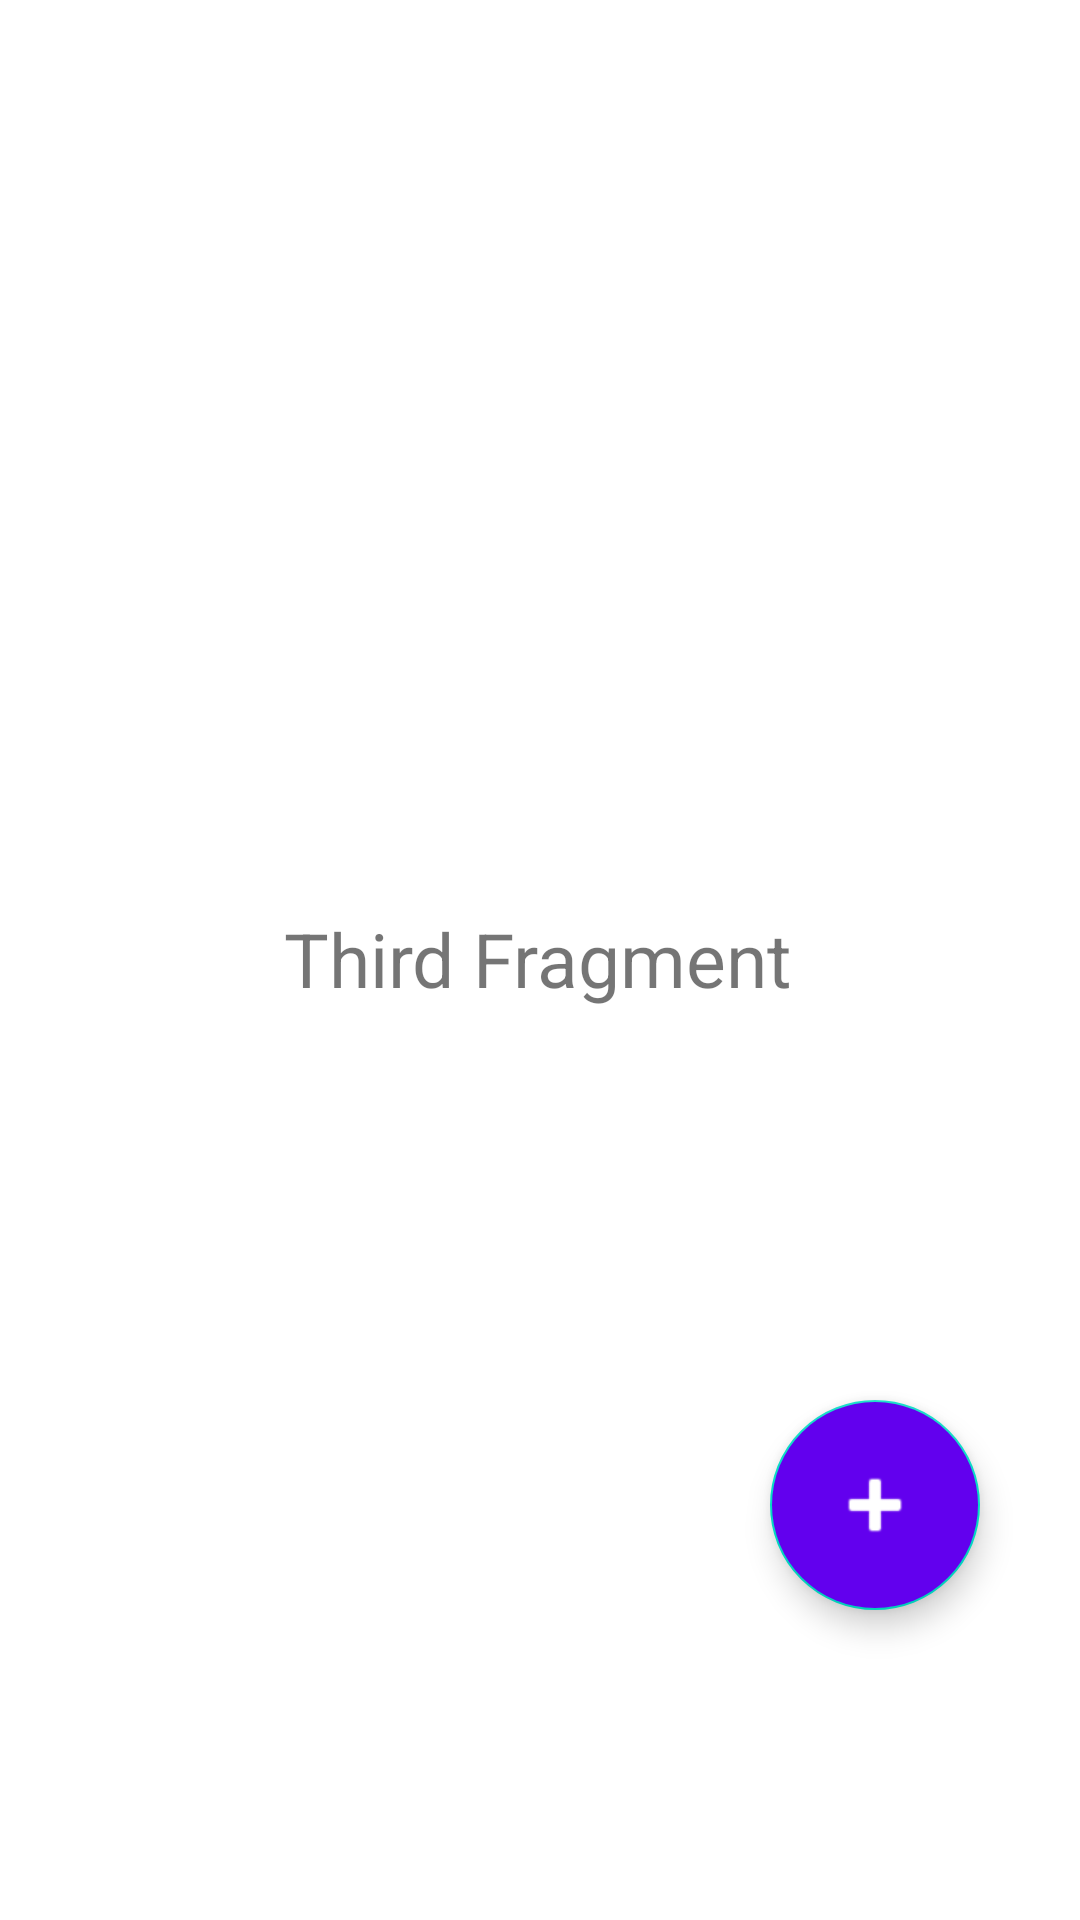

Locate icon controls on the screen. Image size 1080px×1920px, boxes as (x1, y1, x2, y2).
add: (770, 1400, 980, 1610)
